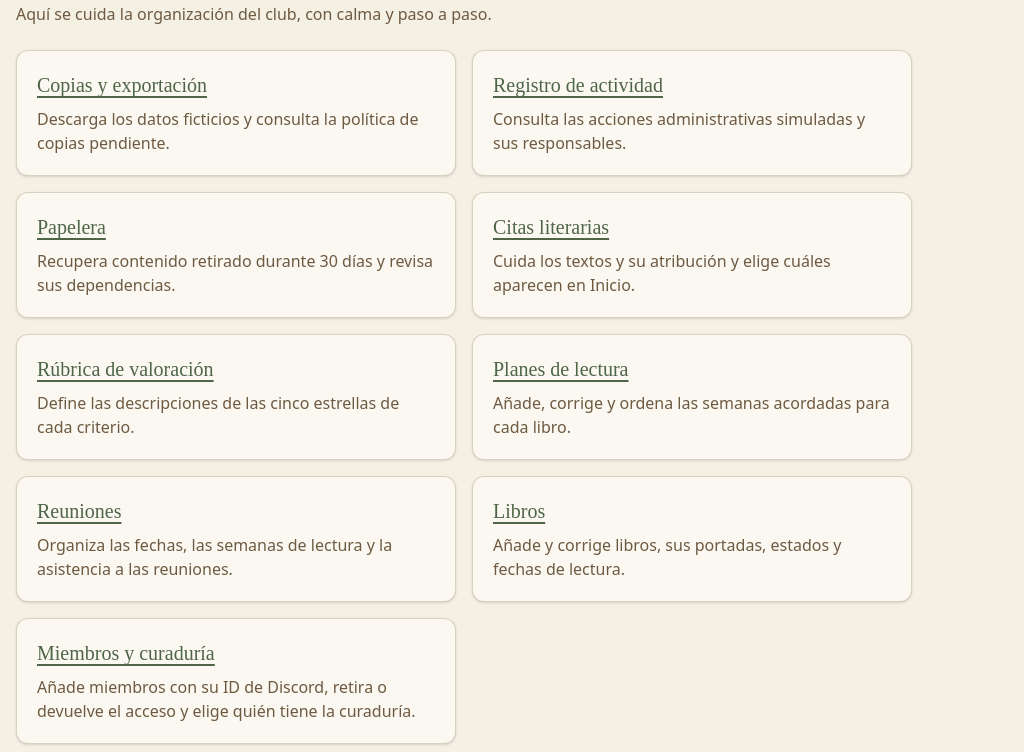
Scenario: Administración hub › opens «Miembros y curaduría» from the hub
The image size is (1024, 752).
(page scrolled)
Click the link "Miembros y curaduría".
click(126, 653)  # box [37,642,215,664]
(page scrolled)
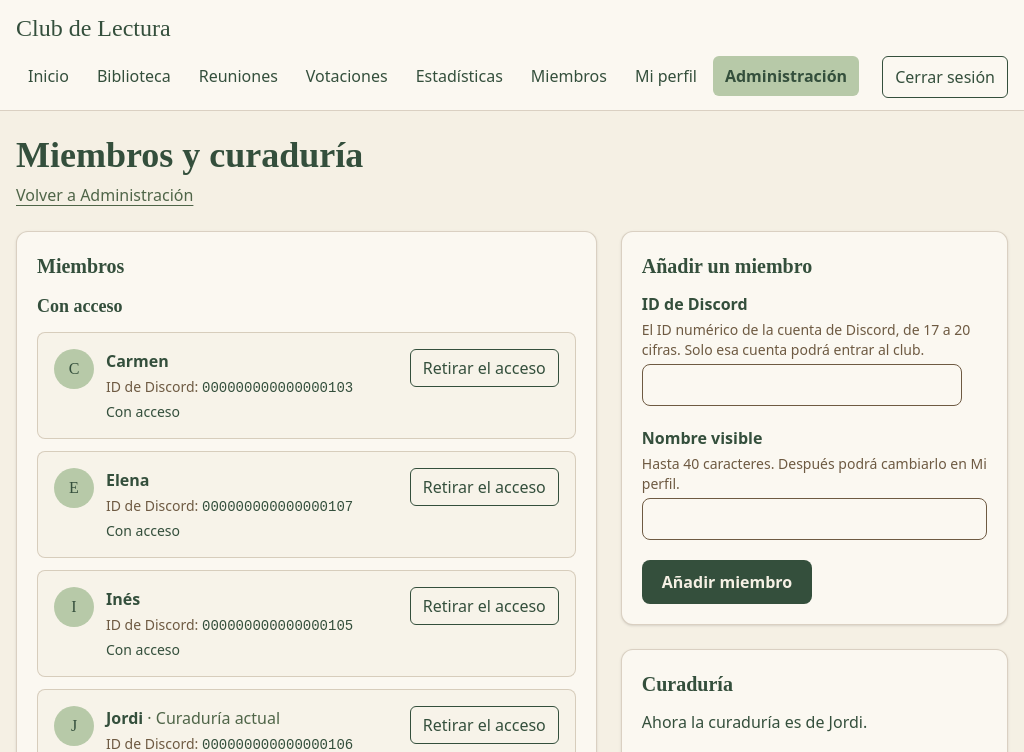
Expected: the heading "Miembros y curaduría" is shown, [16,135,363,175]
